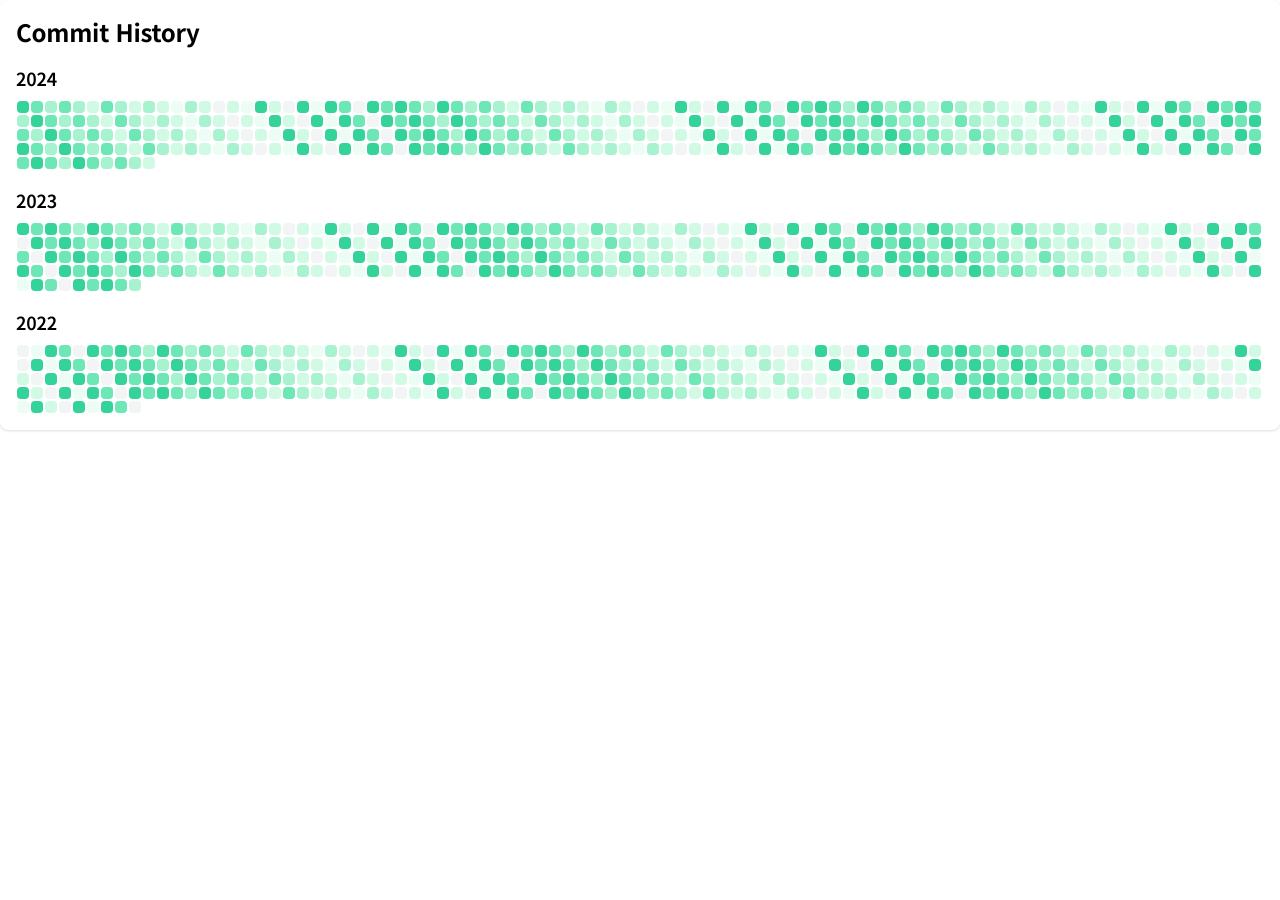
Test: RecordGraph Component (app/component/record-graph.tsx) › closes the detail dialog when close button is clicked
The image size is (1280, 900).
Click the button named "2024-01-01: 8회 수련" at (23, 107), box [17, 101, 29, 113]
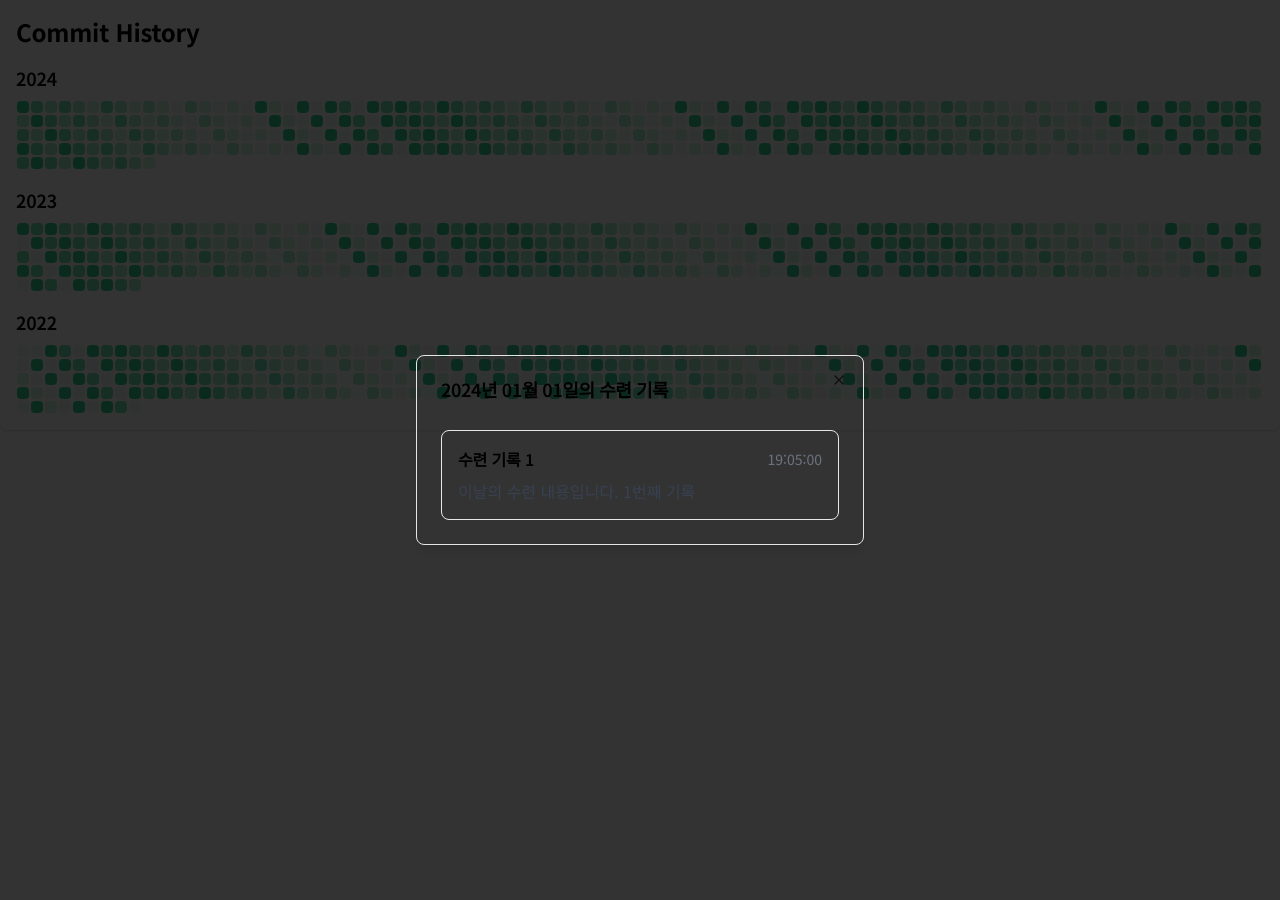
Now the dialog is shown, box [416, 355, 864, 545]
// Close button (X icon button in dialog)
Click the button named "Close" at (839, 380), box [831, 372, 847, 388]
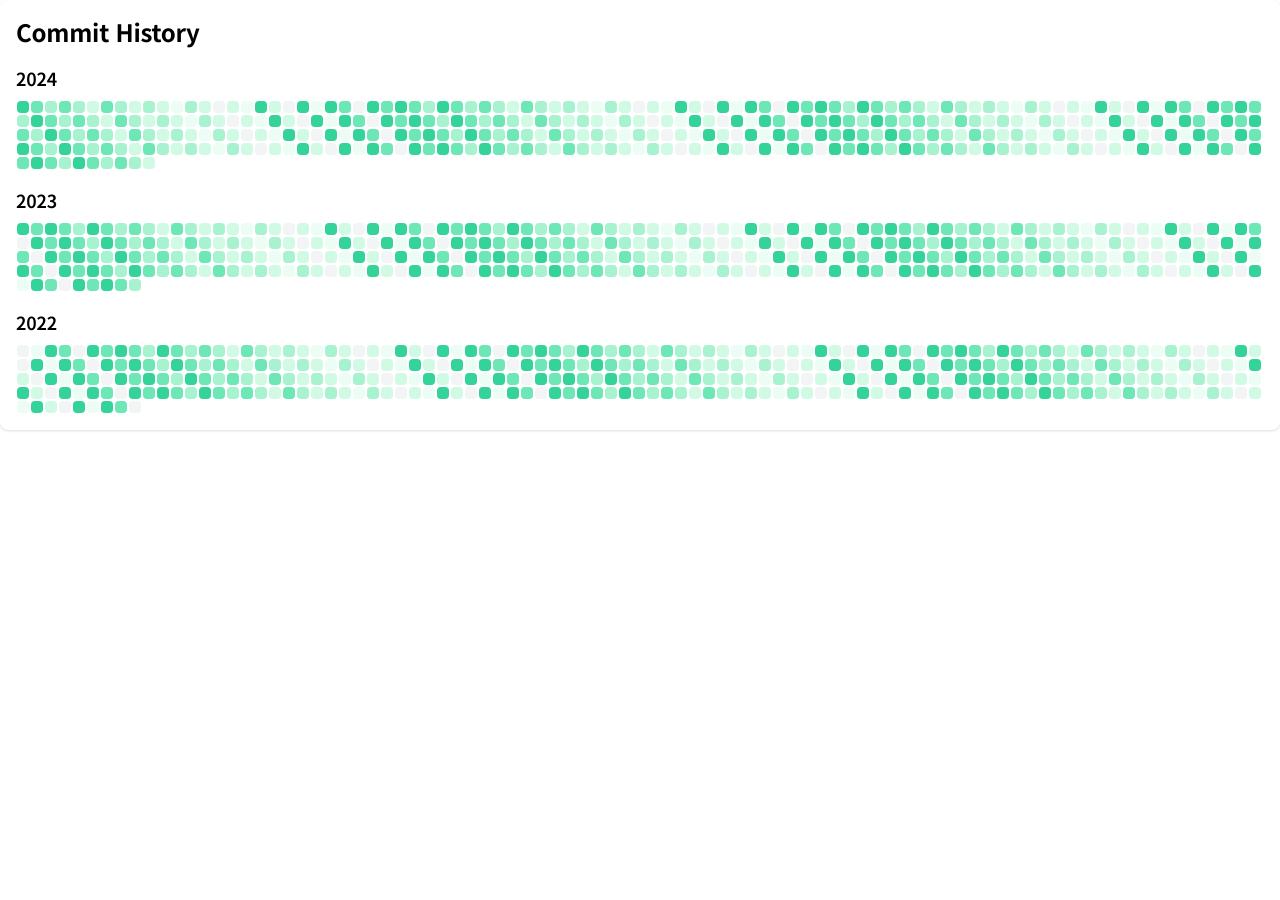
Now the dialog is gone
